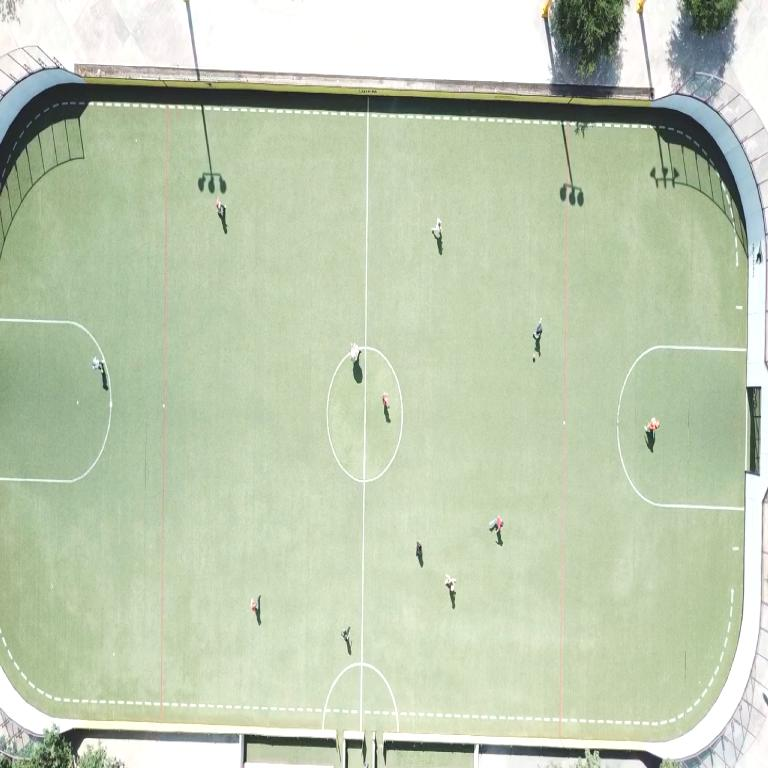AC: (617, 422, 744, 508), (0, 391, 112, 483), (0, 318, 101, 352), (632, 348, 656, 367), (658, 346, 739, 350)
B: (532, 354, 535, 361)
MC: (359, 98, 370, 730)
P: (431, 218, 442, 240), (645, 418, 659, 435), (445, 574, 456, 595), (533, 318, 542, 341), (216, 198, 226, 218), (489, 517, 503, 531), (350, 343, 359, 363), (342, 627, 350, 644), (93, 358, 103, 371), (251, 599, 259, 613), (416, 541, 422, 557), (383, 393, 388, 408)
